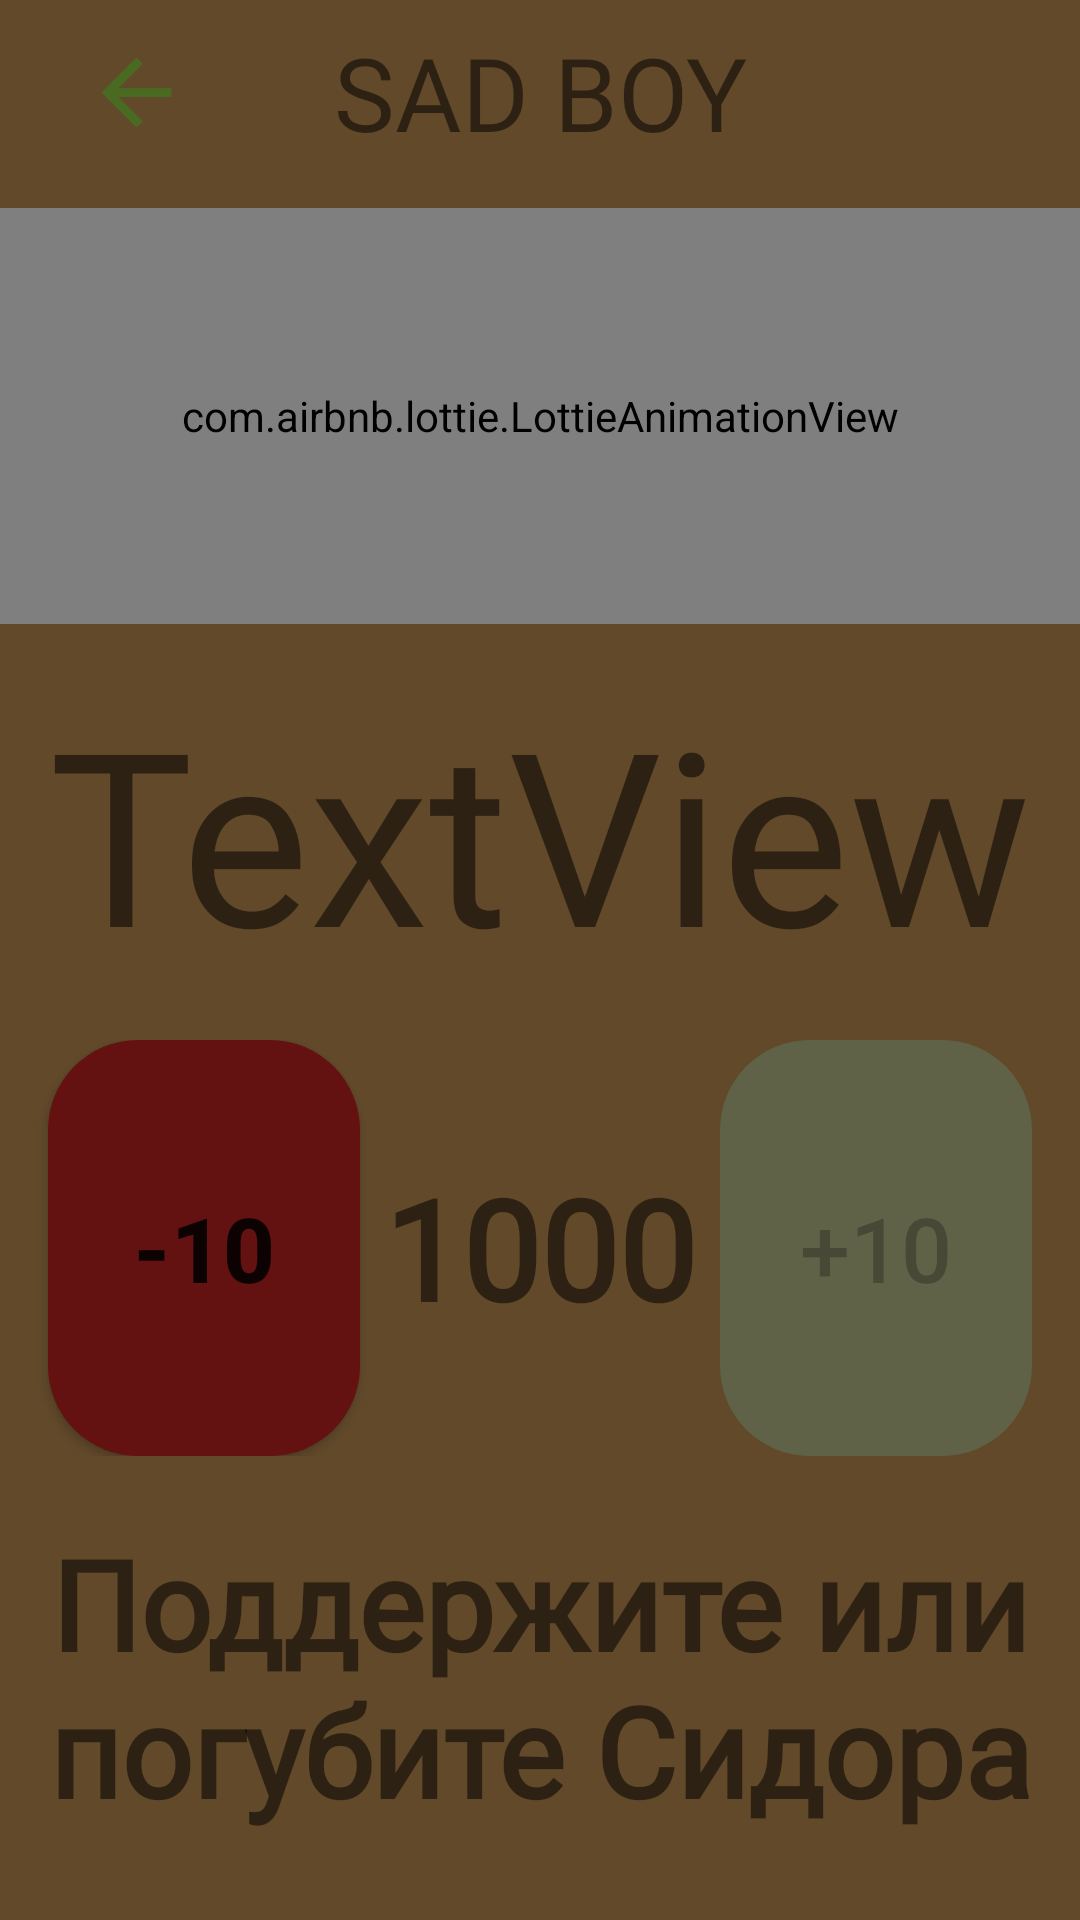

Icons on this 1080x1920 Android screen, each with its box as region(x1, y1, x2, y2):
arrow back: region(102, 58, 171, 127)
